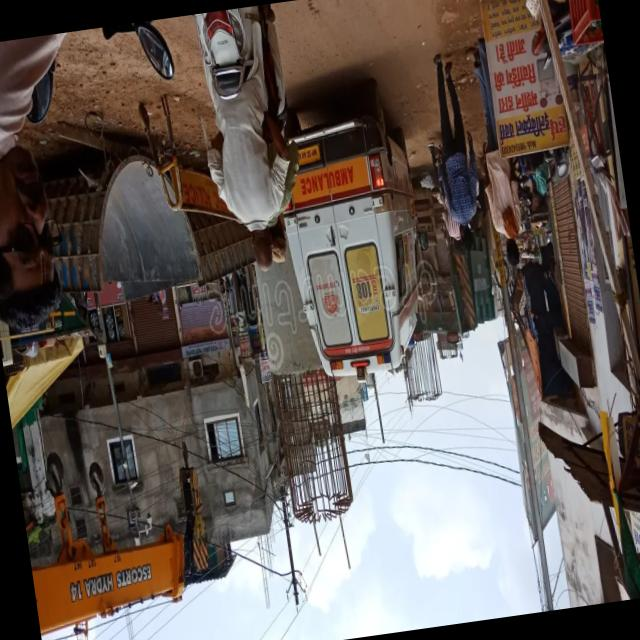ambulance: (282, 81, 440, 376)
